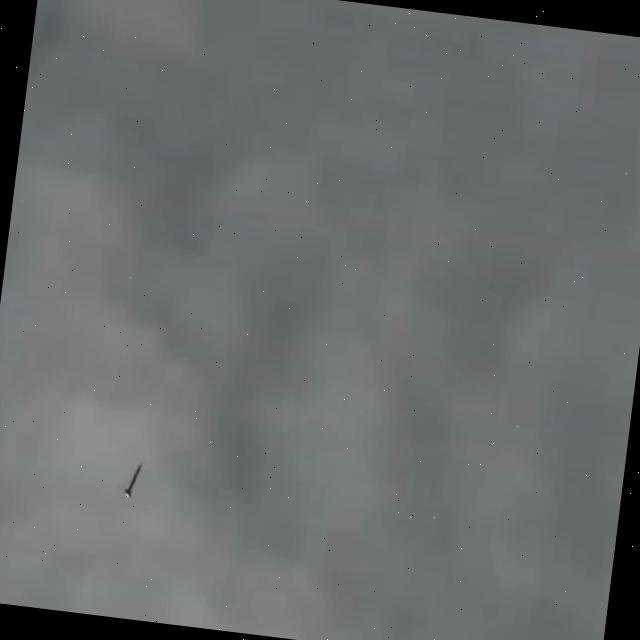rocket: (121, 462, 150, 499)
